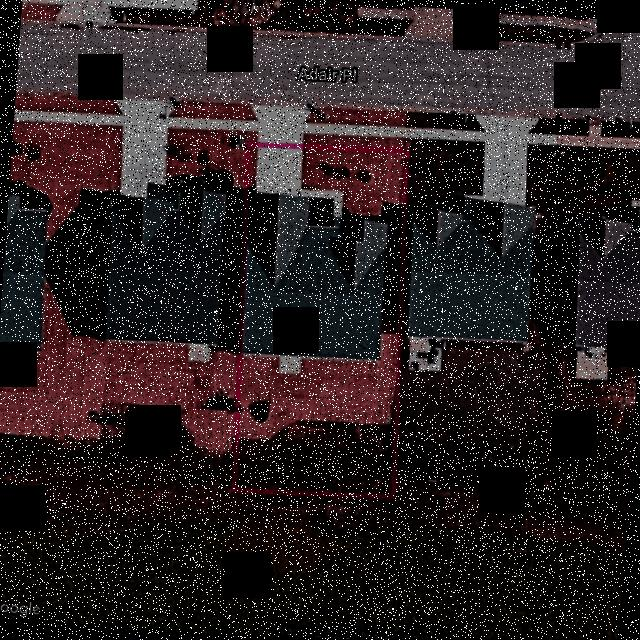Driveway: (257, 147, 341, 217)
Extra Driveway: (251, 104, 309, 142)
Extra Lawn: (305, 107, 410, 127), (304, 135, 410, 148), (246, 105, 256, 118), (247, 134, 255, 141)
Extra Sidewalk: (304, 123, 408, 139), (246, 119, 258, 132)
House: (243, 193, 389, 357)
Other: (279, 355, 301, 374)
